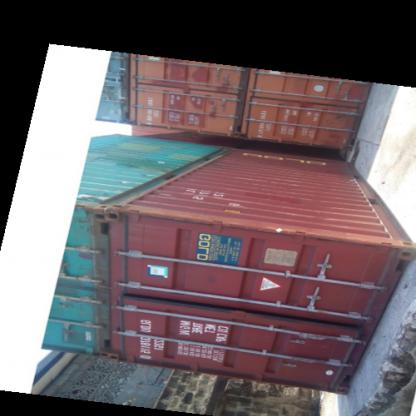Damage: (121, 206, 275, 232)
